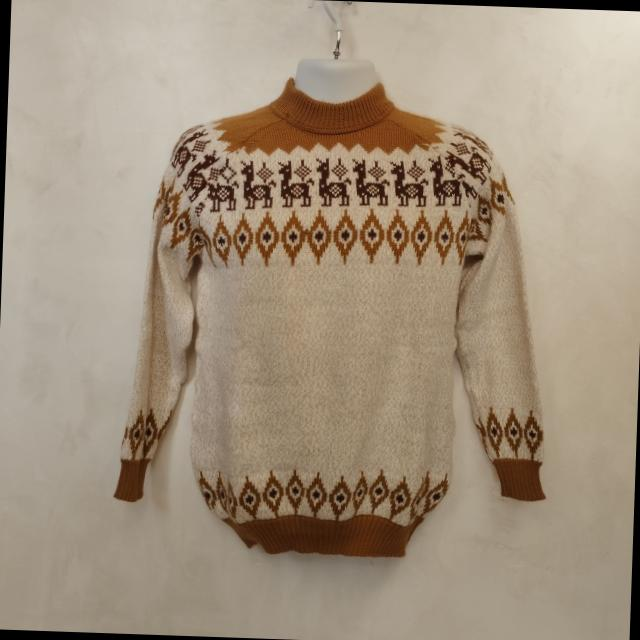Chompa: (112, 52, 560, 564)
